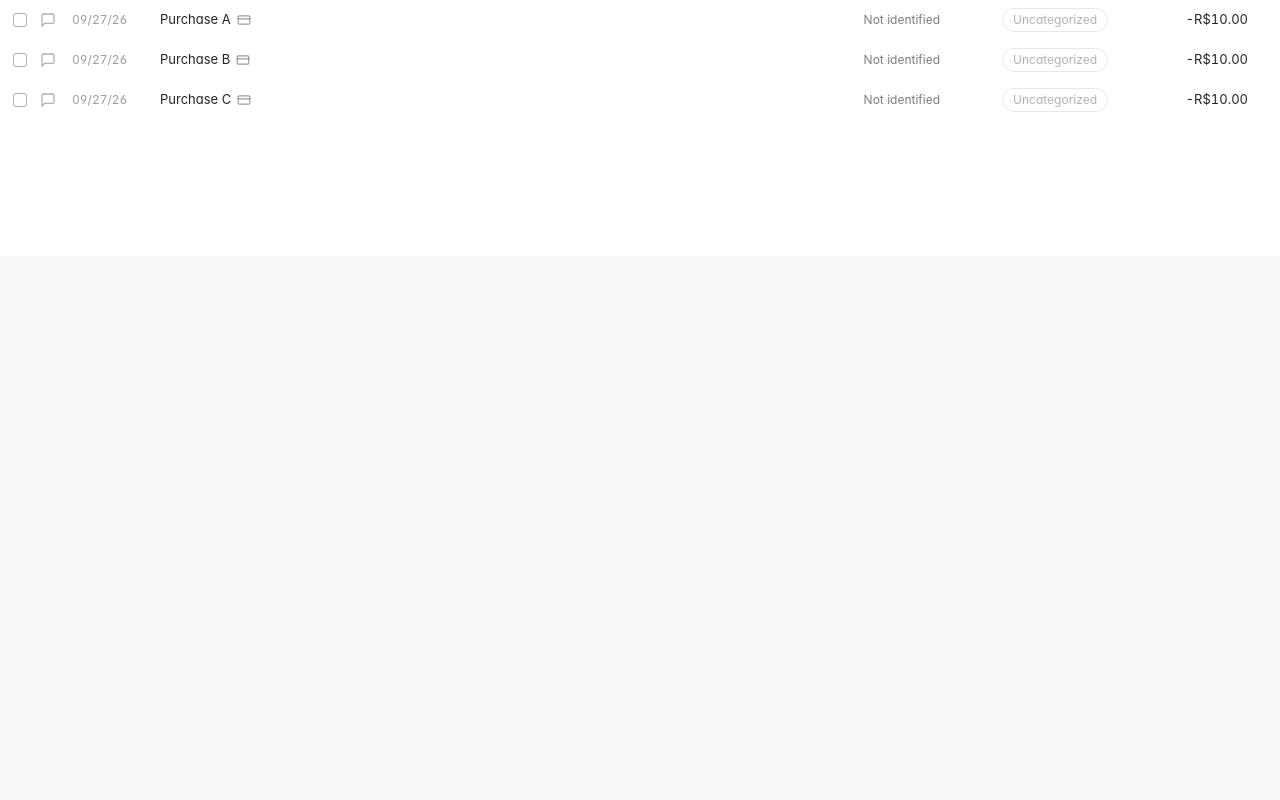
transaction detail category shortcut flow › browses A, B, C in opening order after keyboard categorization optimistically reorders and refetches the ledger
This screenshot has width=1280, height=800.
Click the button "Purchase A". click: click(195, 20)
box: [160,10,231,30]
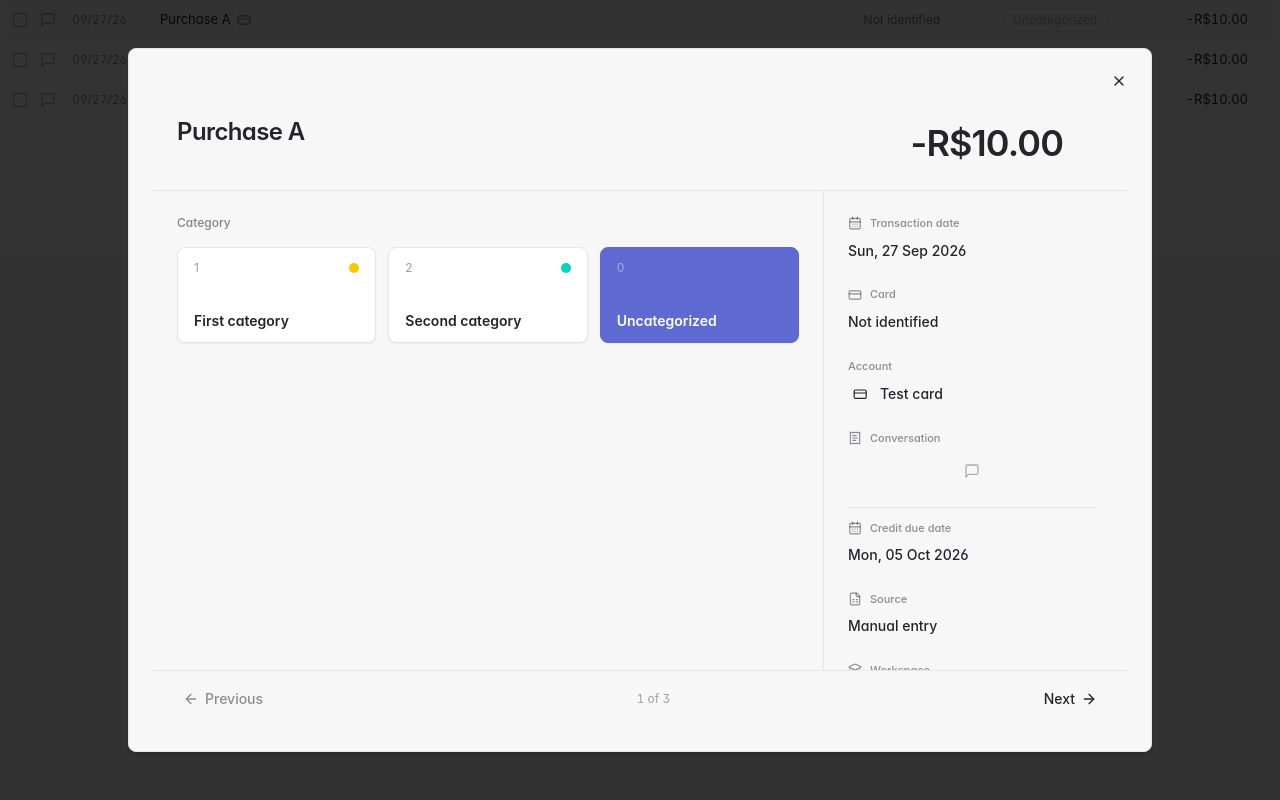
Now the button "1 First category" is shown, box [177,247,376,343]
Now the heading "Purchase A" is shown, box [177,117,305,146]
Type keys "1"
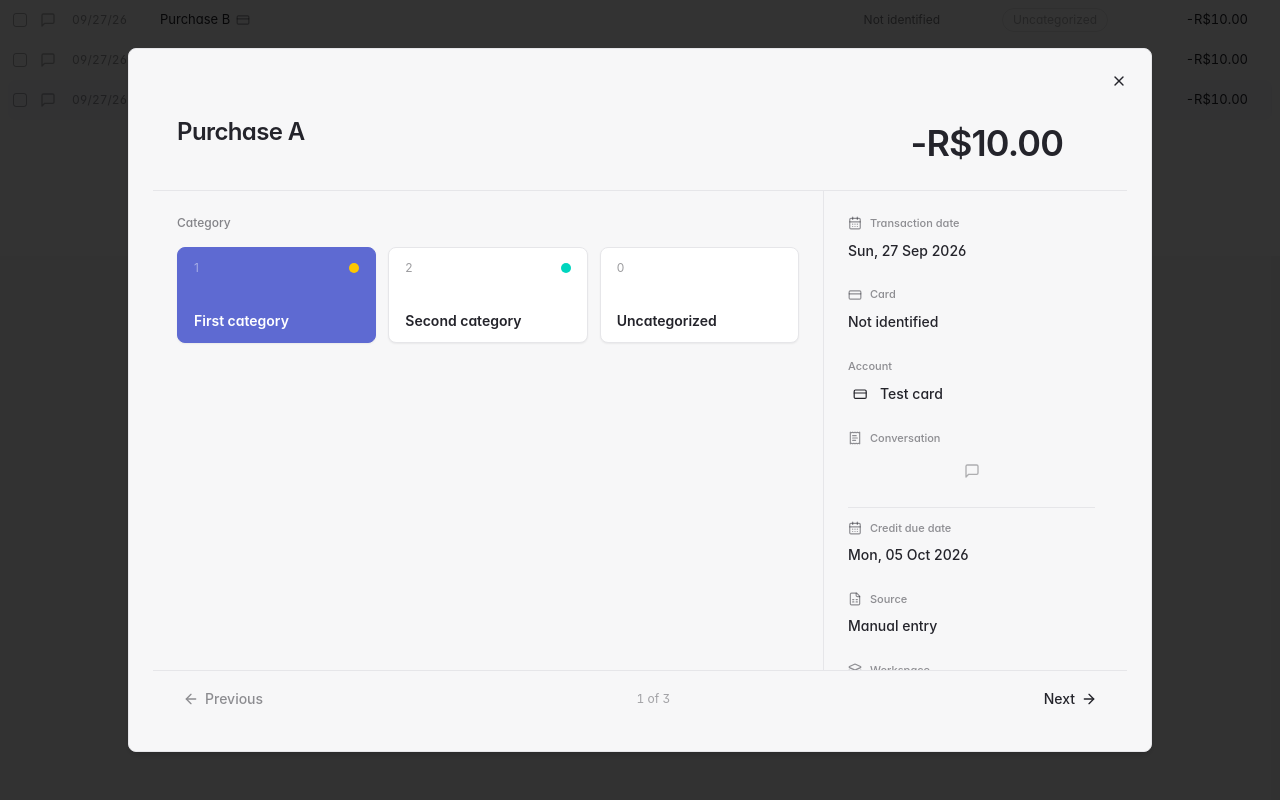
Now the text "1 of 3" is shown, box [636,691,670,707]
Now the button "Next" is enabled, box [1034,683,1107,715]
Press Arrowright
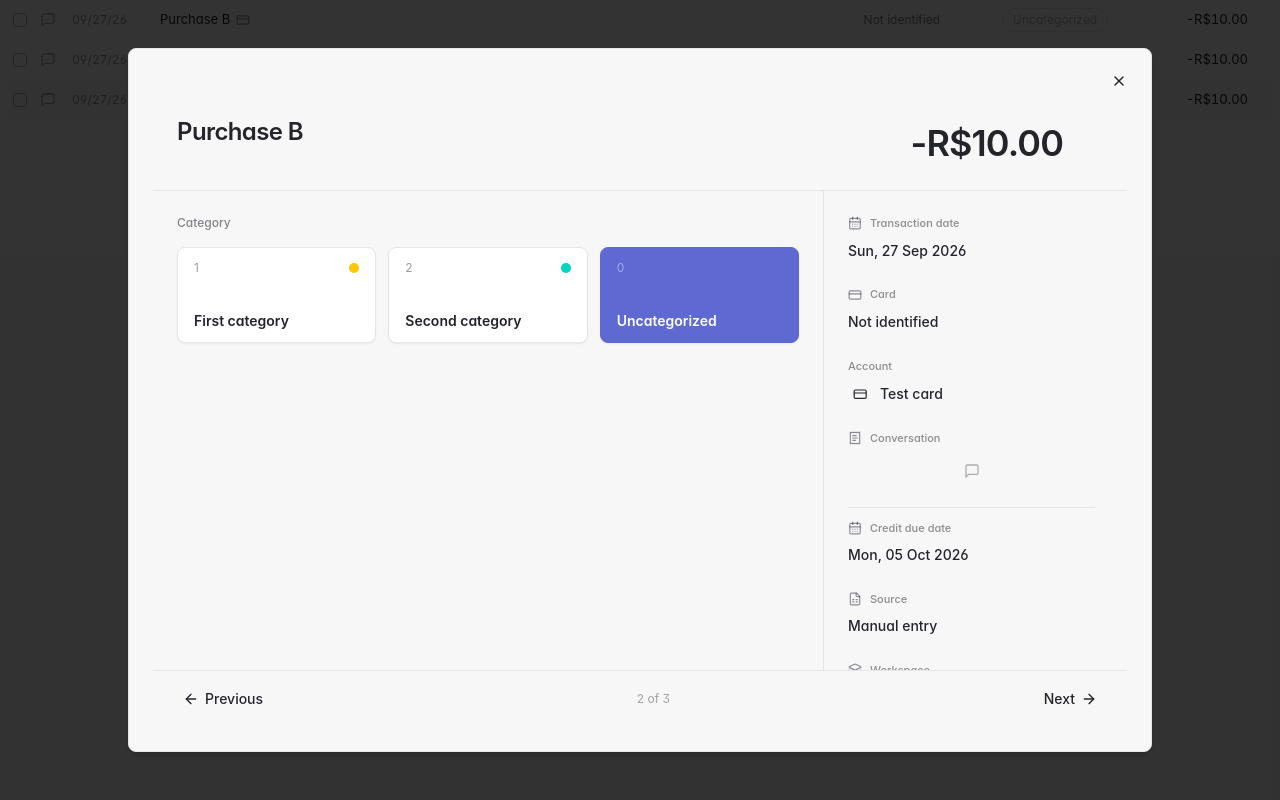
Now the heading "Purchase B" is shown, box [177,117,303,146]
Now the text "2 of 3" is shown, box [636,691,670,707]
Type keys "2"
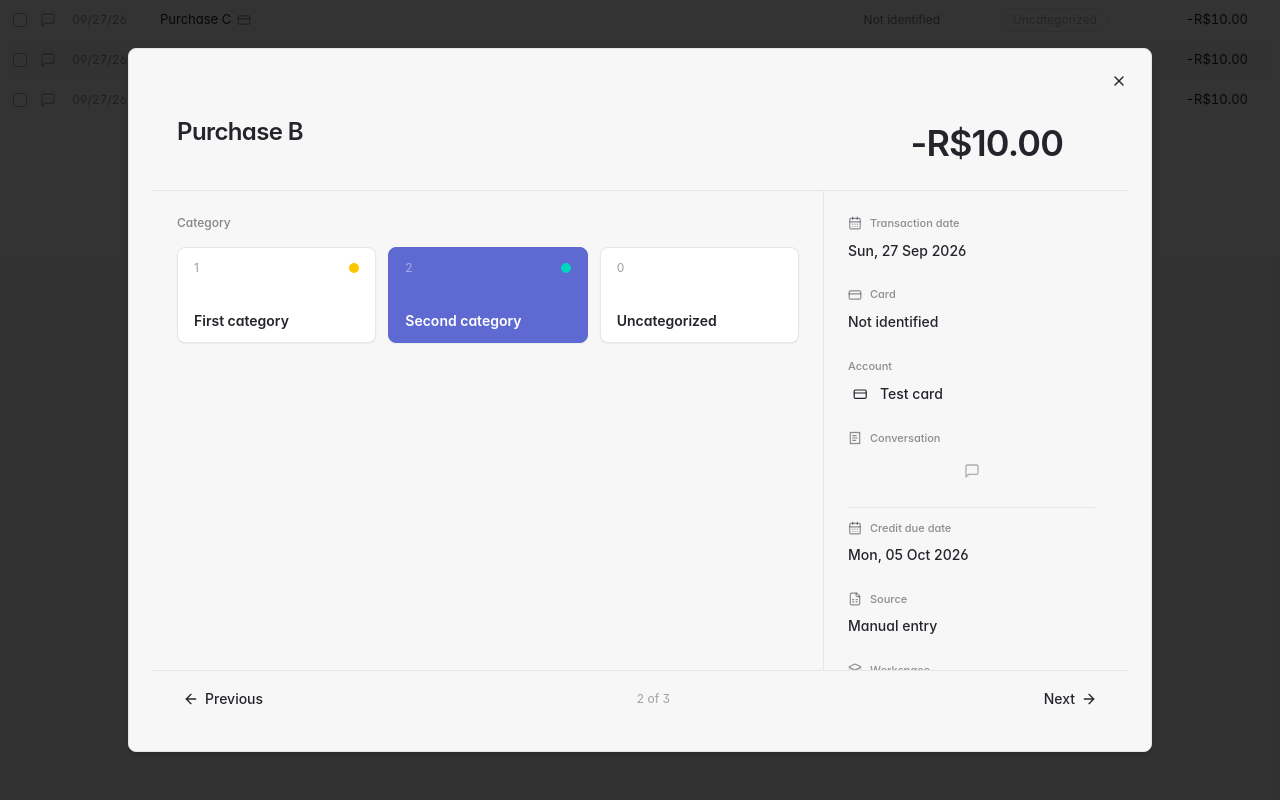
Now the button "2 Second category" is pressed, box [388,247,588,343]
Press Arrowright
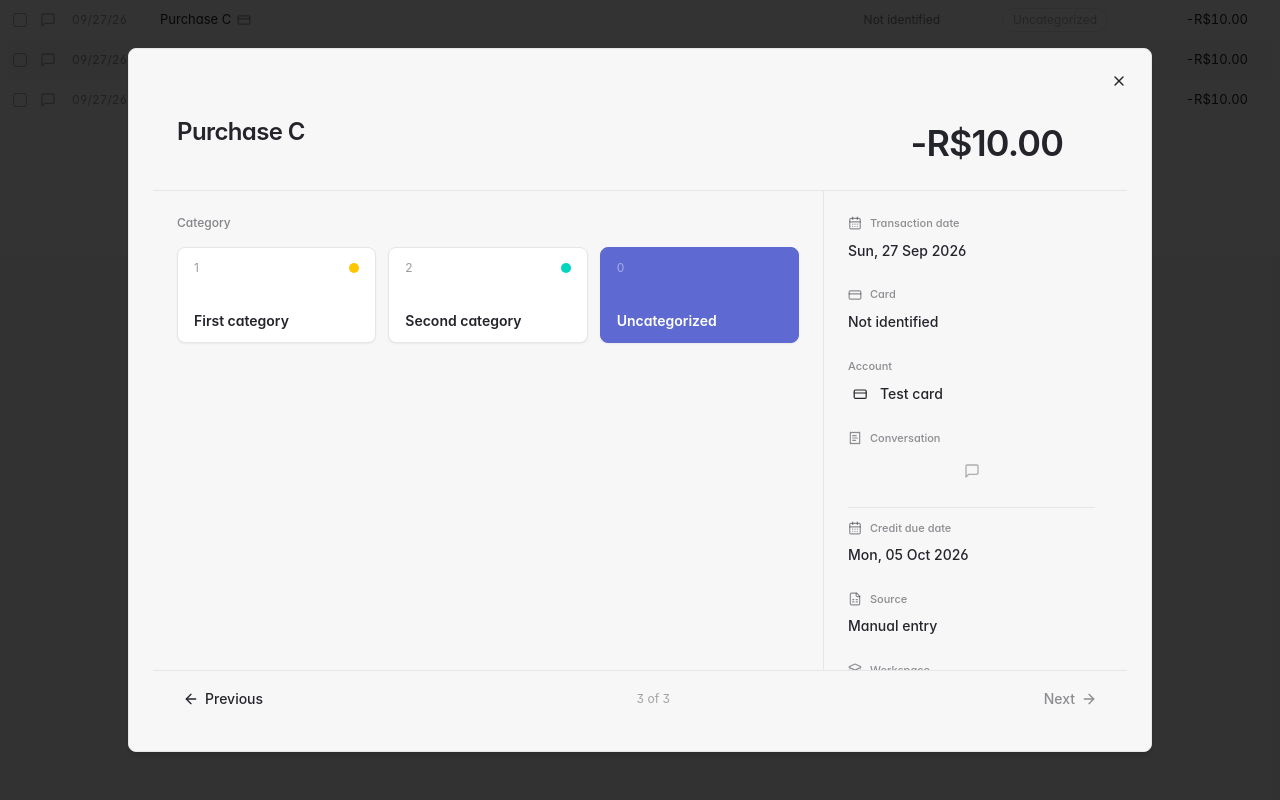
Now the heading "Purchase C" is shown, box [177,117,305,146]
Now the text "3 of 3" is shown, box [636,691,670,707]
Press Arrowleft
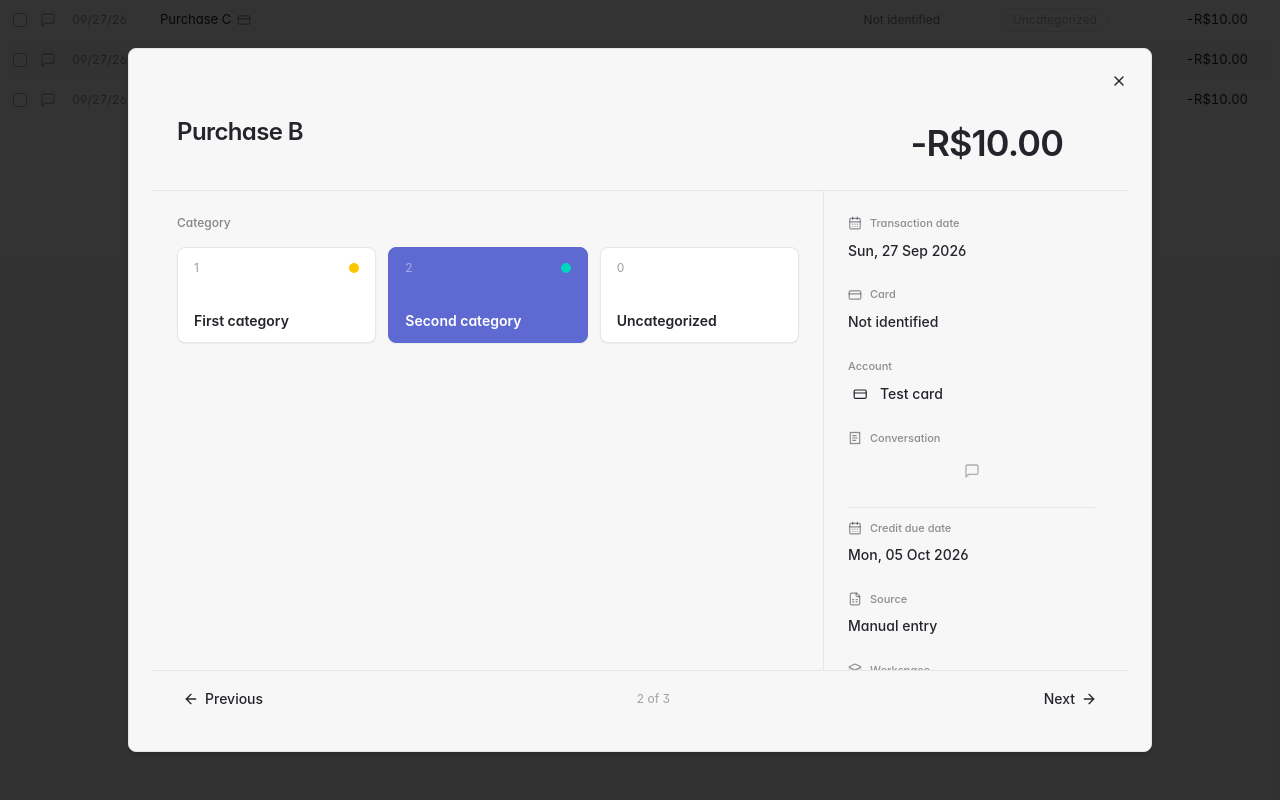
Now the heading "Purchase B" is shown, box [177,117,303,146]
